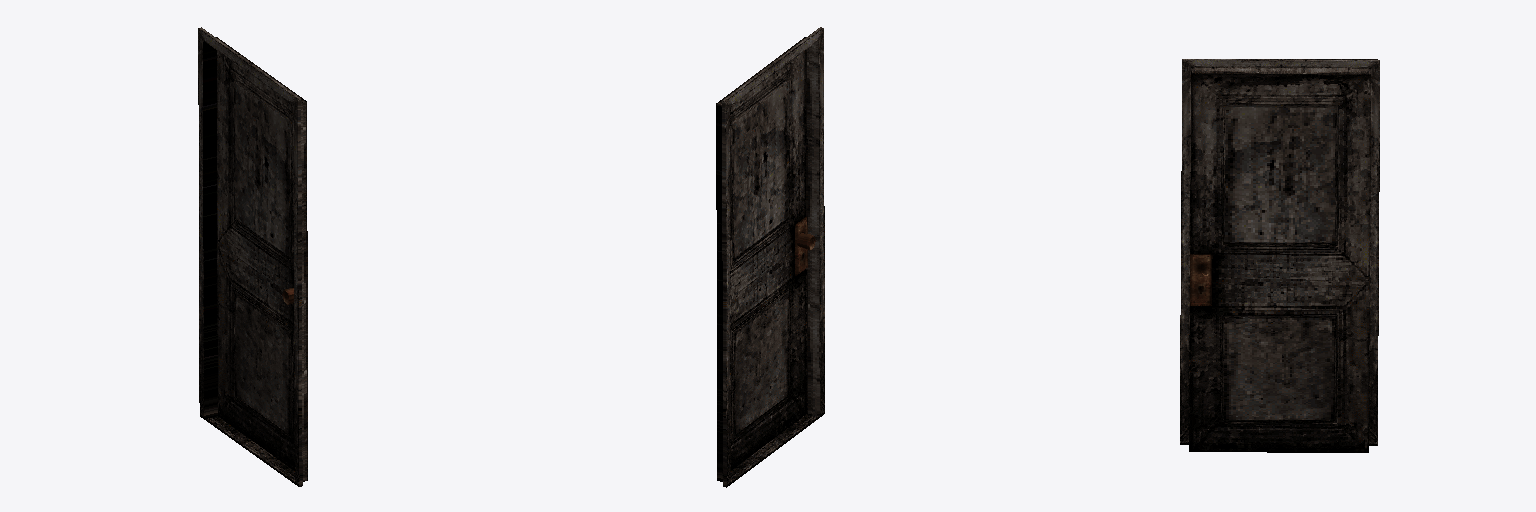
3 views of the same model, side by side, from view 1: azimuth 30°, elevation 25°; view 2: azimuth 150°, elevation 25°; view 3: azimuth 270°, elevation 25° (orthographic).
Parts seen in each view (by area): view 1: Puerta1:polySurface623; view 2: Puerta1:polySurface623; view 3: Puerta1:polySurface623.
Boxes of the visible parts, <box> form: Puerta1:polySurface623: <box>198,27,307,486</box>; Puerta1:polySurface623: <box>716,27,824,487</box>; Puerta1:polySurface623: <box>1180,59,1379,452</box>.
Bounding box in the file's own units: 0.1473 × 3.59 × 1.69.
1 materials, 1 textured.